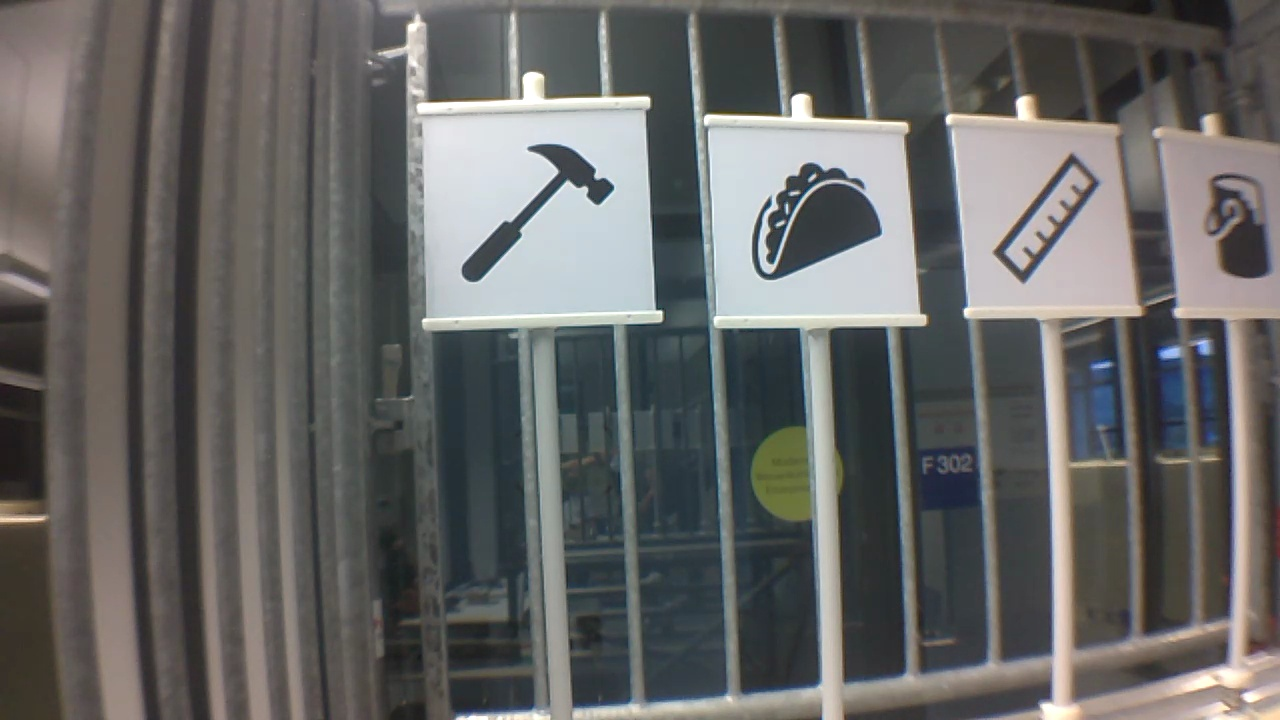bucket: (1194, 167, 1275, 285)
hammer: (455, 137, 618, 290)
ruler: (985, 148, 1106, 292)
taco: (745, 153, 887, 287)
